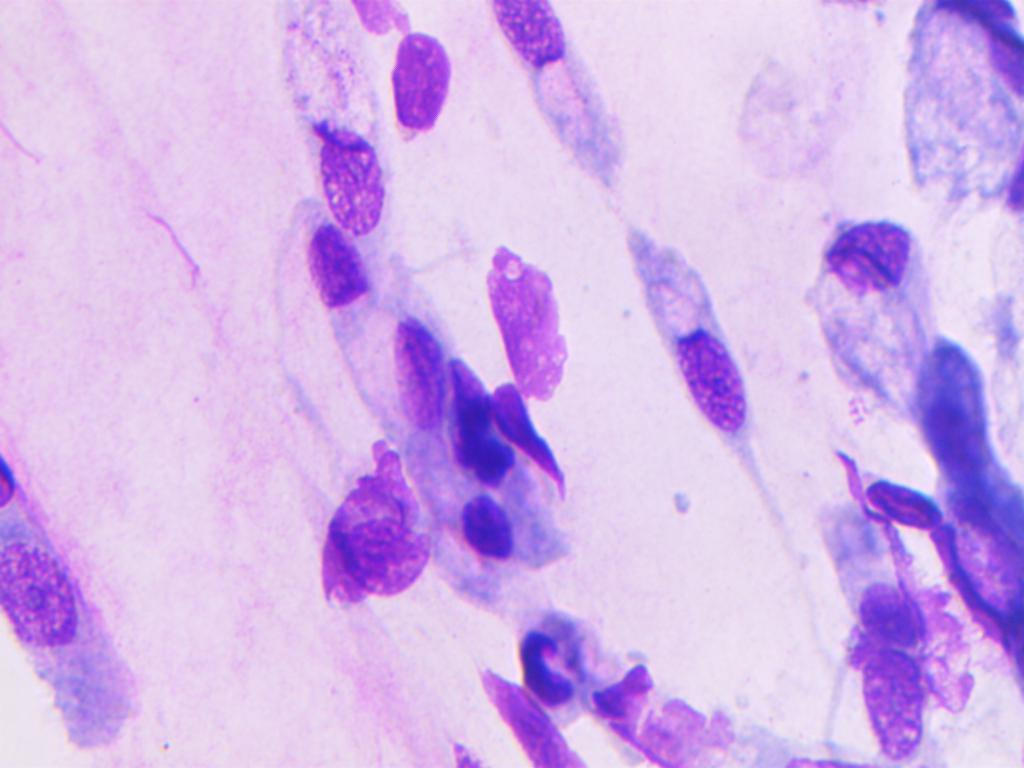artifact: (894, 0, 1024, 210), (308, 443, 439, 604), (587, 653, 748, 768), (941, 461, 1024, 664), (479, 243, 581, 407), (919, 338, 1010, 489), (457, 670, 581, 768), (497, 383, 576, 503), (447, 373, 529, 483)
ciliated: (816, 499, 920, 652)
epithelial: (292, 223, 428, 409), (0, 504, 121, 684), (856, 656, 944, 760), (384, 311, 447, 433), (391, 24, 453, 143)
goblet_cell: (610, 226, 776, 470), (793, 210, 970, 412), (486, 0, 638, 178), (288, 32, 384, 234)
metaplastic: (510, 614, 593, 721), (862, 468, 957, 532), (453, 485, 528, 564)
